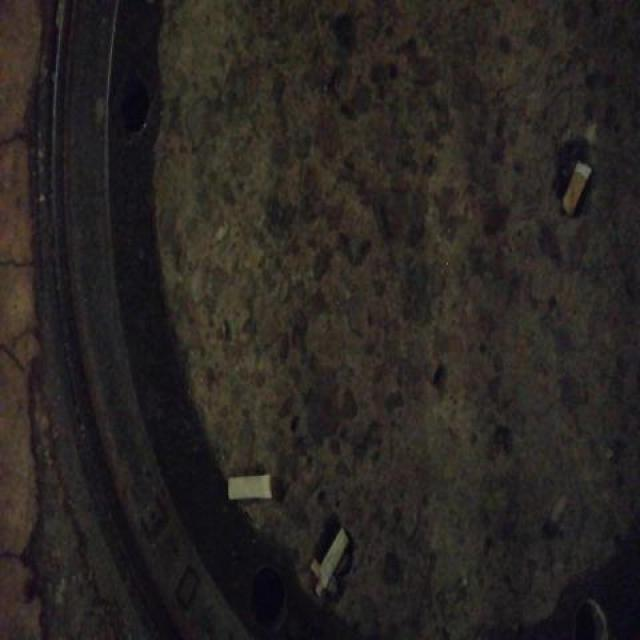non-organic waste: (316, 522, 352, 590), (557, 156, 595, 219), (222, 469, 274, 503)
